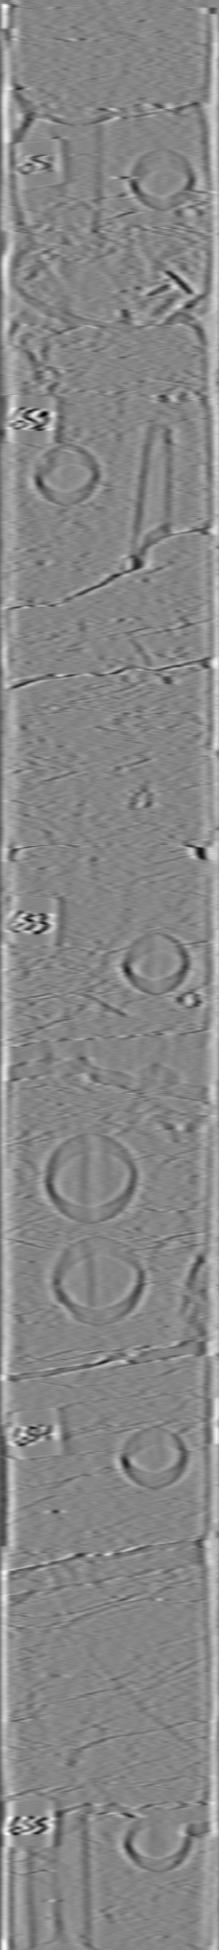hplug: (116, 922, 192, 1000), (114, 1418, 190, 1494), (124, 146, 202, 216), (119, 1804, 197, 1875), (30, 440, 106, 510)
scal: (40, 1130, 142, 1226), (49, 1232, 148, 1328)
vplug: (22, 1800, 100, 1950), (39, 116, 112, 234), (128, 412, 175, 576)
